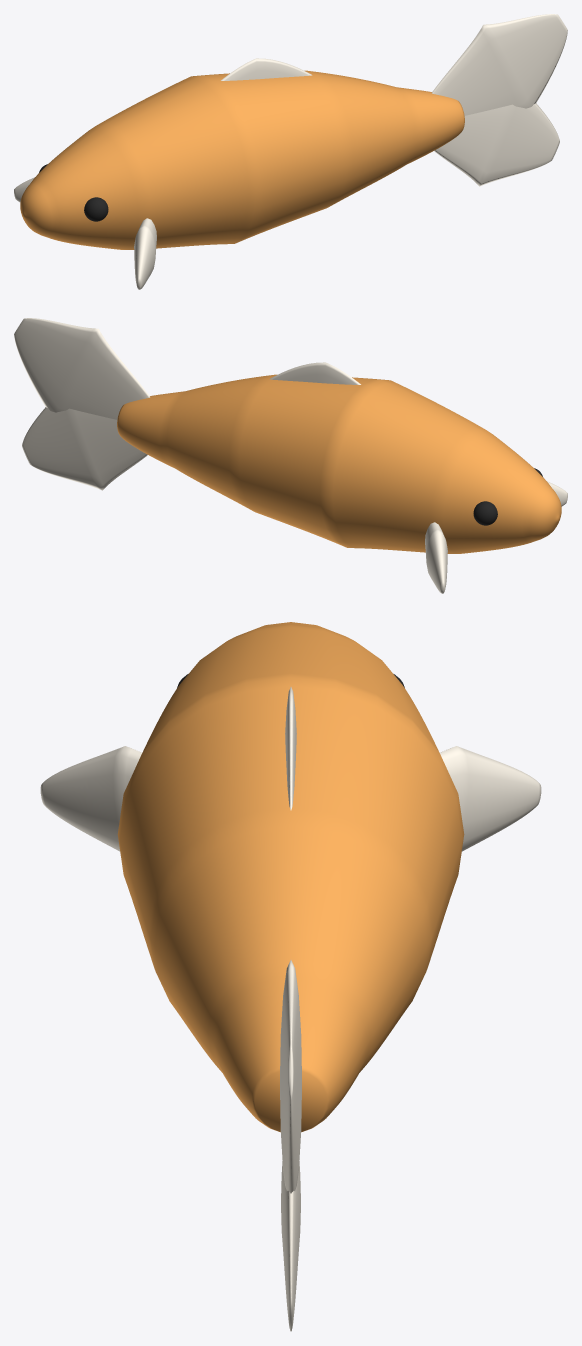
Rendered from goldfish_v4.glb.
3 views of the same model, one above another, from view 1: azimuth 30°, elevation 25°; view 2: azimuth 150°, elevation 25°; view 3: azimuth 270°, elevation 25° (orthographic). The views are drawn at different scales.
Visible parts, largest first — view 1: Body, CaudalFinUp, CaudalFinDown, PectoralFinL, DorsalFin, EyeL; view 2: Body, CaudalFinUp, CaudalFinDown, PectoralFinR, DorsalFin, EyeR; view 3: Body, PectoralFinL, PectoralFinR, CaudalFinUp, CaudalFinDown, DorsalFin.
Part boxes in pixels (x1,y1,x2,y2): Body: (20,70,464,249); CaudalFinUp: (432,14,567,115); CaudalFinDown: (434,103,559,186); PectoralFinL: (134,218,156,289); DorsalFin: (221,58,312,80); EyeL: (84,197,108,221); Body: (117,374,561,553); CaudalFinUp: (14,318,149,419); CaudalFinDown: (22,407,147,490); PectoralFinR: (425,522,447,593); DorsalFin: (269,362,360,384); EyeR: (473,501,497,525); Body: (117,622,464,1132); PectoralFinL: (40,746,141,851); PectoralFinR: (440,746,541,851); CaudalFinUp: (280,960,301,1193); CaudalFinDown: (281,1161,300,1331); DorsalFin: (285,687,296,810).
Size of the model in its own units: 0.7622 by 0.2444 by 0.3035.
